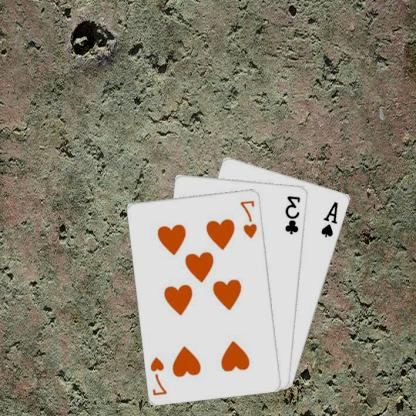3C: (284, 193, 304, 235)
7H: (150, 354, 171, 397), (239, 198, 260, 239)
AS: (320, 198, 341, 238)
